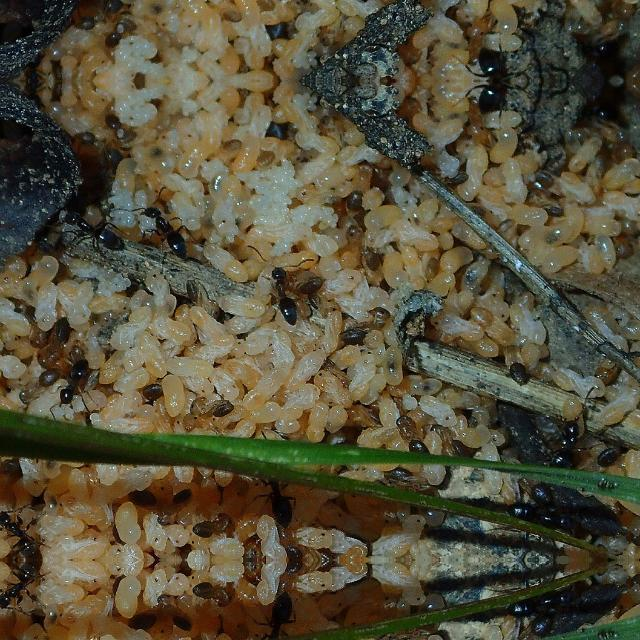Tapinoma: (506, 500, 600, 548), (506, 571, 600, 619), (256, 462, 308, 540), (136, 200, 196, 258), (466, 80, 556, 118), (466, 42, 556, 80), (261, 260, 307, 330), (56, 206, 126, 252), (256, 578, 306, 640), (0, 501, 52, 557), (0, 562, 52, 618), (338, 302, 396, 348), (544, 417, 588, 471), (55, 358, 99, 408), (592, 440, 632, 468)
